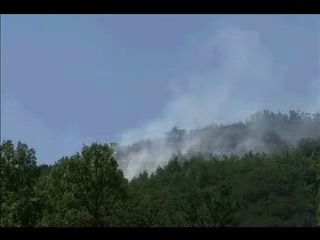smoke: (186, 32, 318, 159), (115, 69, 185, 183)
